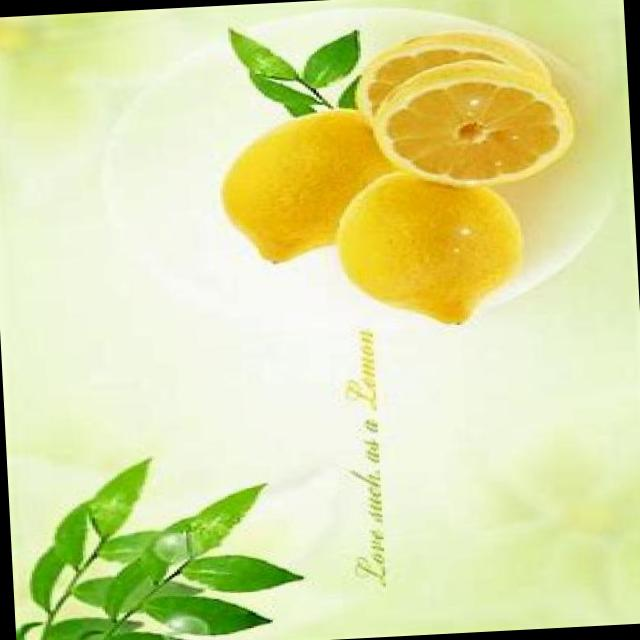lemon: (341, 164, 530, 342), (368, 56, 576, 195), (214, 100, 380, 268)
